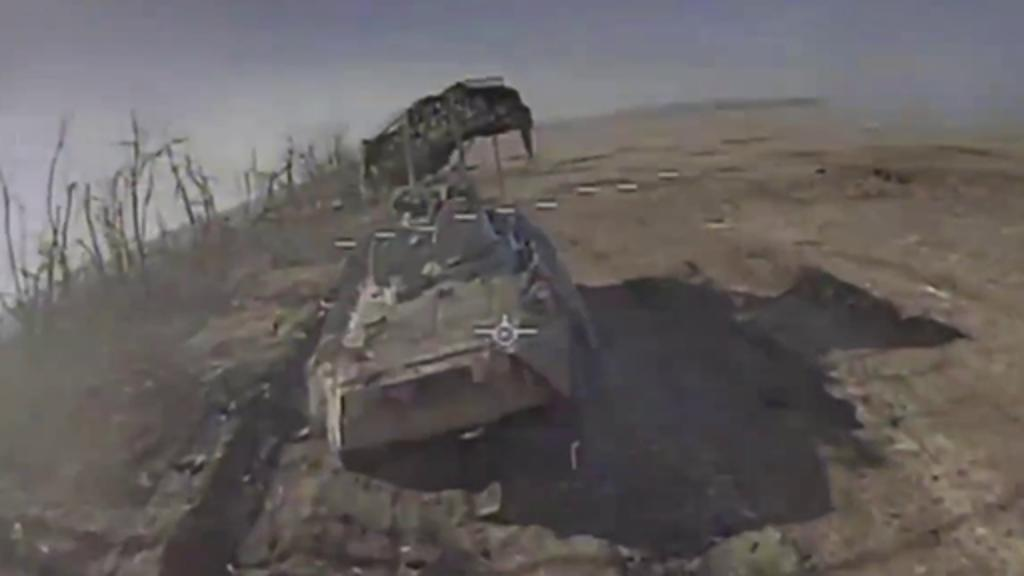APC-IFV: (270, 84, 614, 470)
